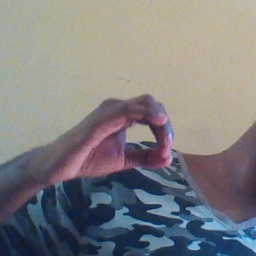O: (60, 90, 182, 185)
